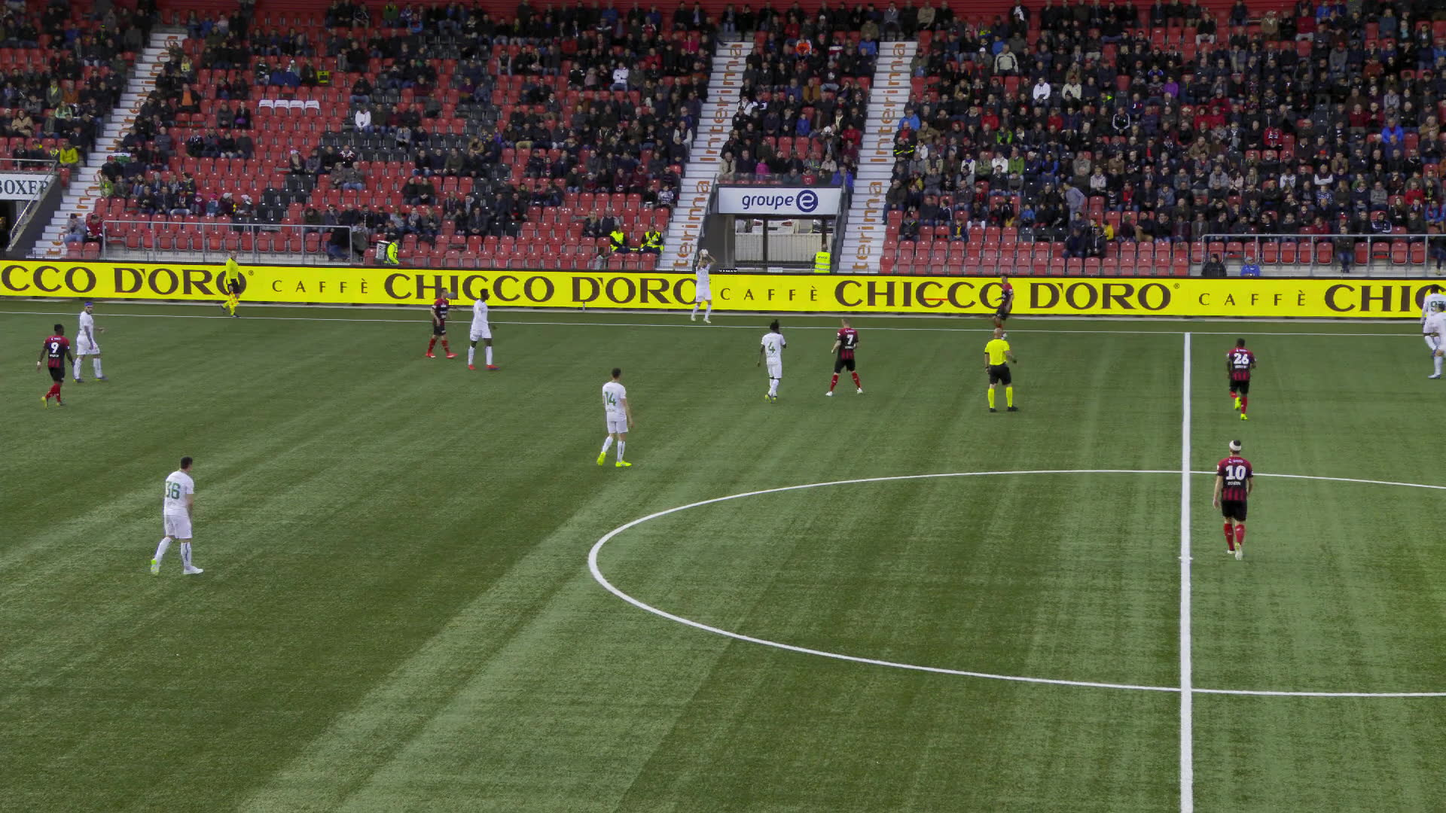ball: (700, 249, 708, 257)
player: (148, 457, 205, 577), (1214, 440, 1254, 559), (593, 367, 632, 465), (35, 324, 74, 409), (825, 315, 862, 395), (757, 318, 786, 403), (1228, 338, 1257, 419), (74, 300, 101, 382), (468, 287, 493, 370), (692, 254, 717, 323), (1423, 284, 1445, 359), (428, 286, 448, 358), (989, 273, 1010, 337), (1432, 312, 1444, 377)
referee: (984, 328, 1019, 413), (218, 250, 240, 317)
